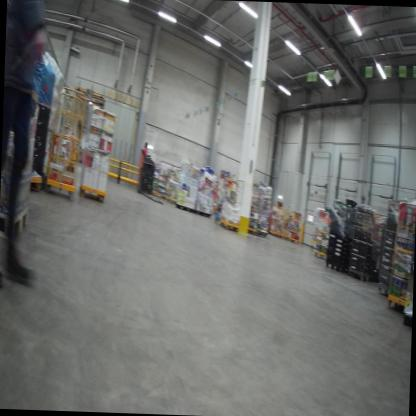pallet: (0, 204, 31, 241)
pallet_truck: (135, 149, 168, 205)
